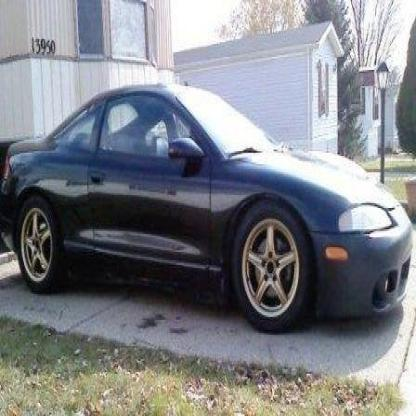Vehicle: (2, 86, 414, 330)
